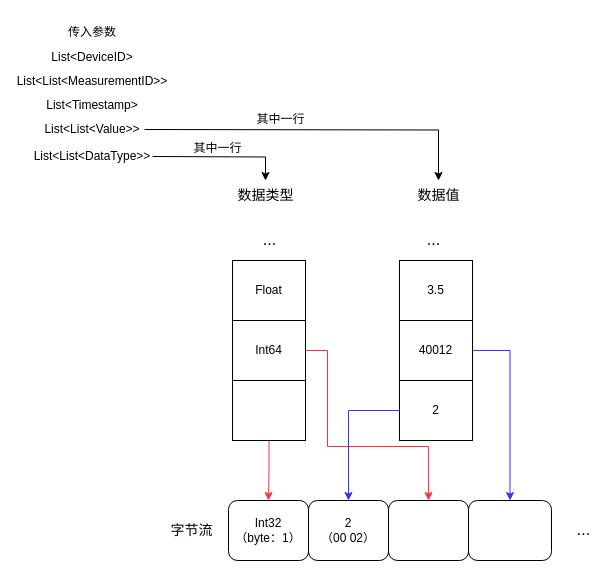
This 616x578 diagram has some shape labels left out. The shapes that lost their labels are listed below. From the top down, each one's centre as x and y in pixels, then its label:
the point at 269,410: Int32
the point at 428,530: Int64 （byte：2）
the point at 510,530: 40012 （00 00 9c 4c)
